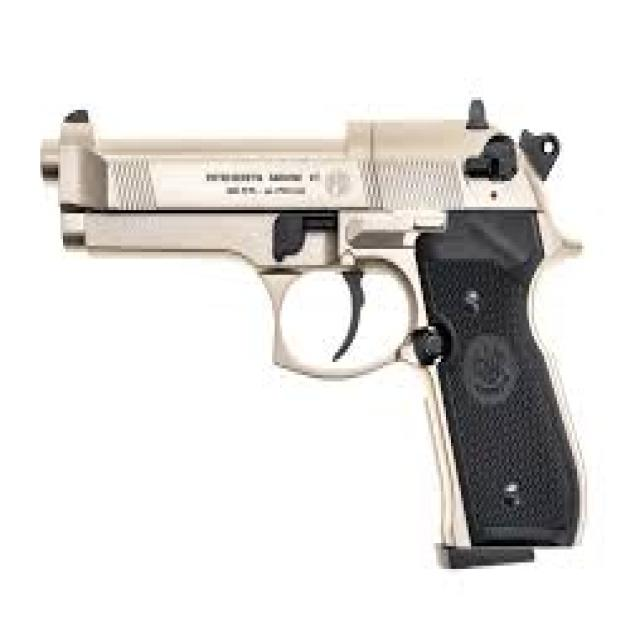pistol: (35, 89, 599, 589)
